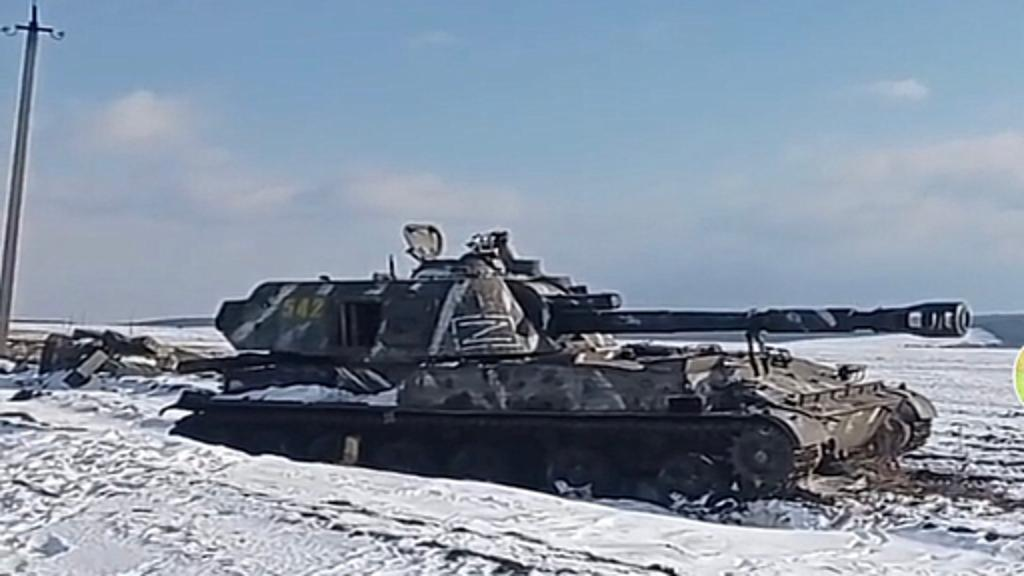ART: (162, 254, 968, 516)
